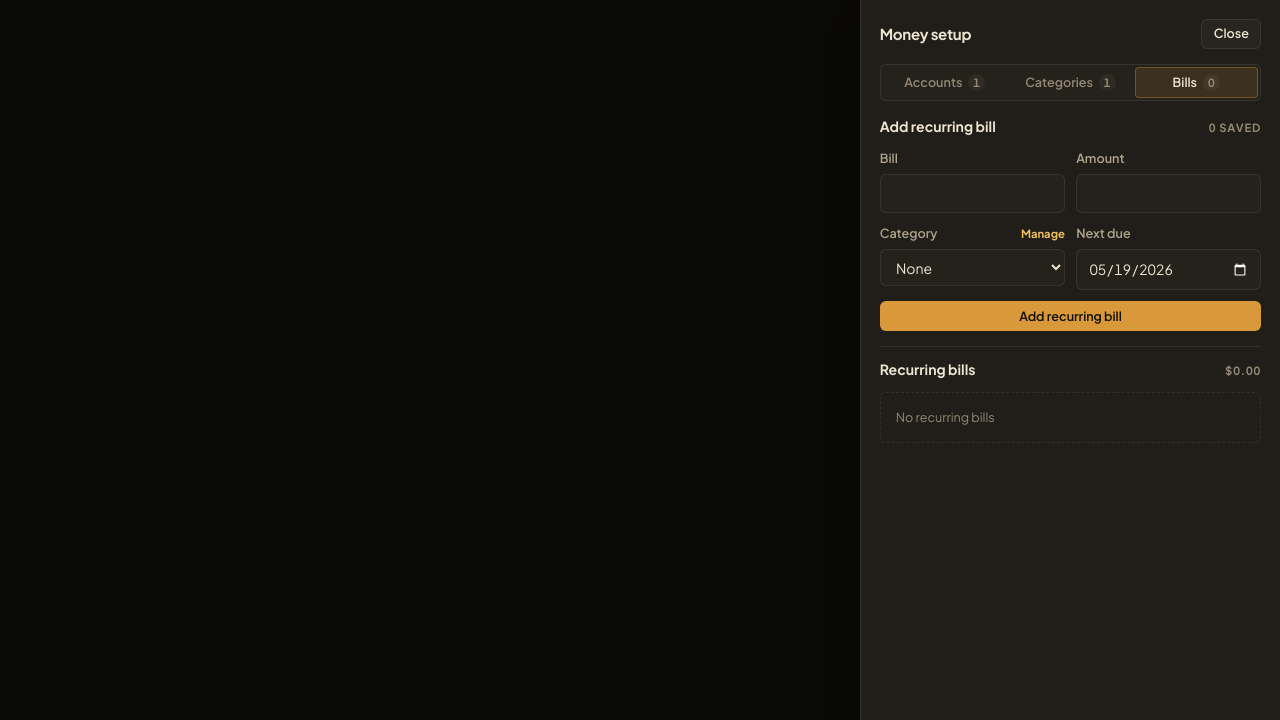
Test: FinanceSetupDrawer › switches from recurring bills to categories through an accessible Manage button
The width and height of the screenshot is (1280, 720).
Click the button "Manage" at (1043, 234), box [1021,225,1065,243]
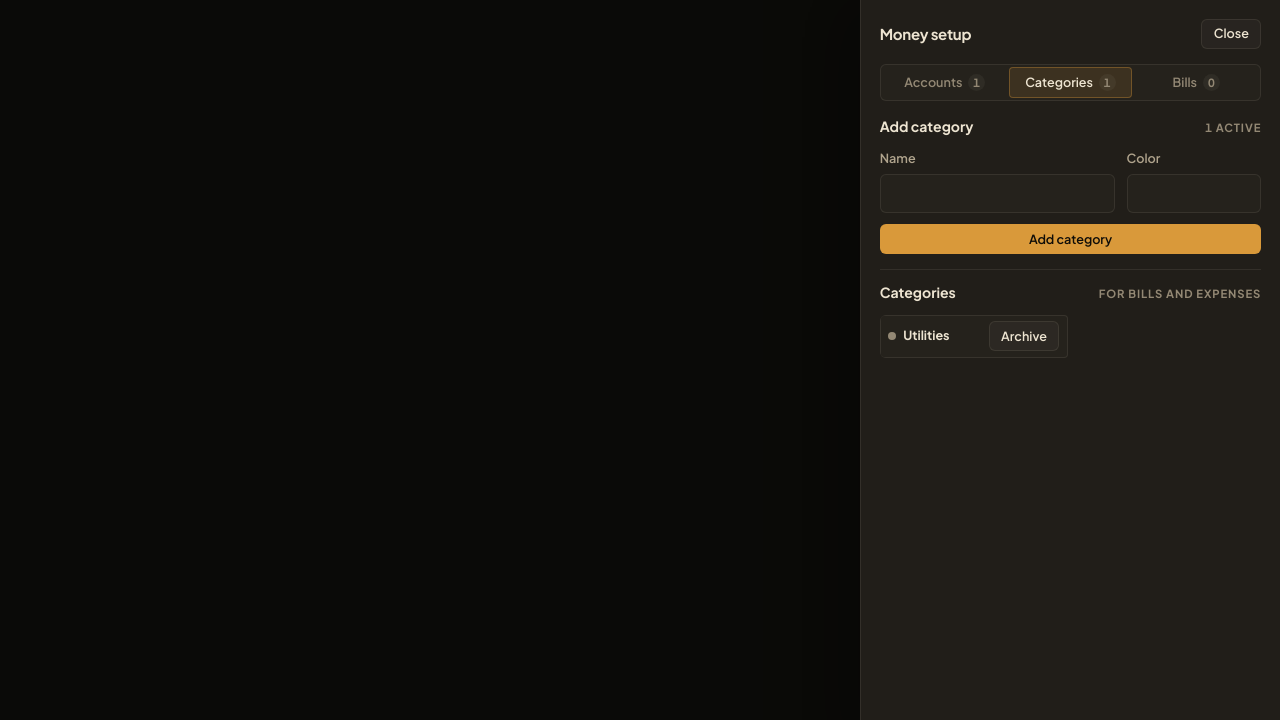
Check: the button "Add category" is shown, box [880,224,1261,254]
Check: the text "For bills and expenses" is shown, box [1099,284,1261,302]
